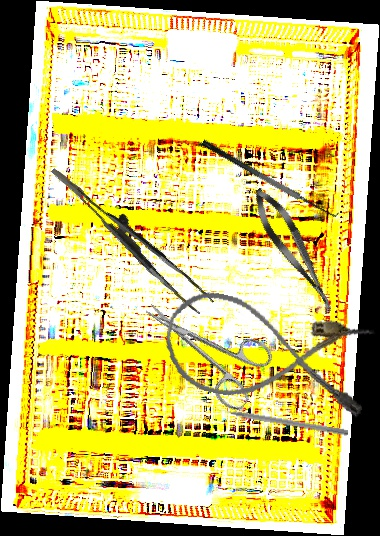Cannula: (157, 284, 379, 424)
Iris Scissors: (128, 276, 281, 415)
Micro Scissor: (245, 182, 343, 319)
Pusher: (209, 403, 349, 437)
Spatula Surgical: (200, 128, 343, 225)
Tissue Forceps: (50, 144, 215, 329)
